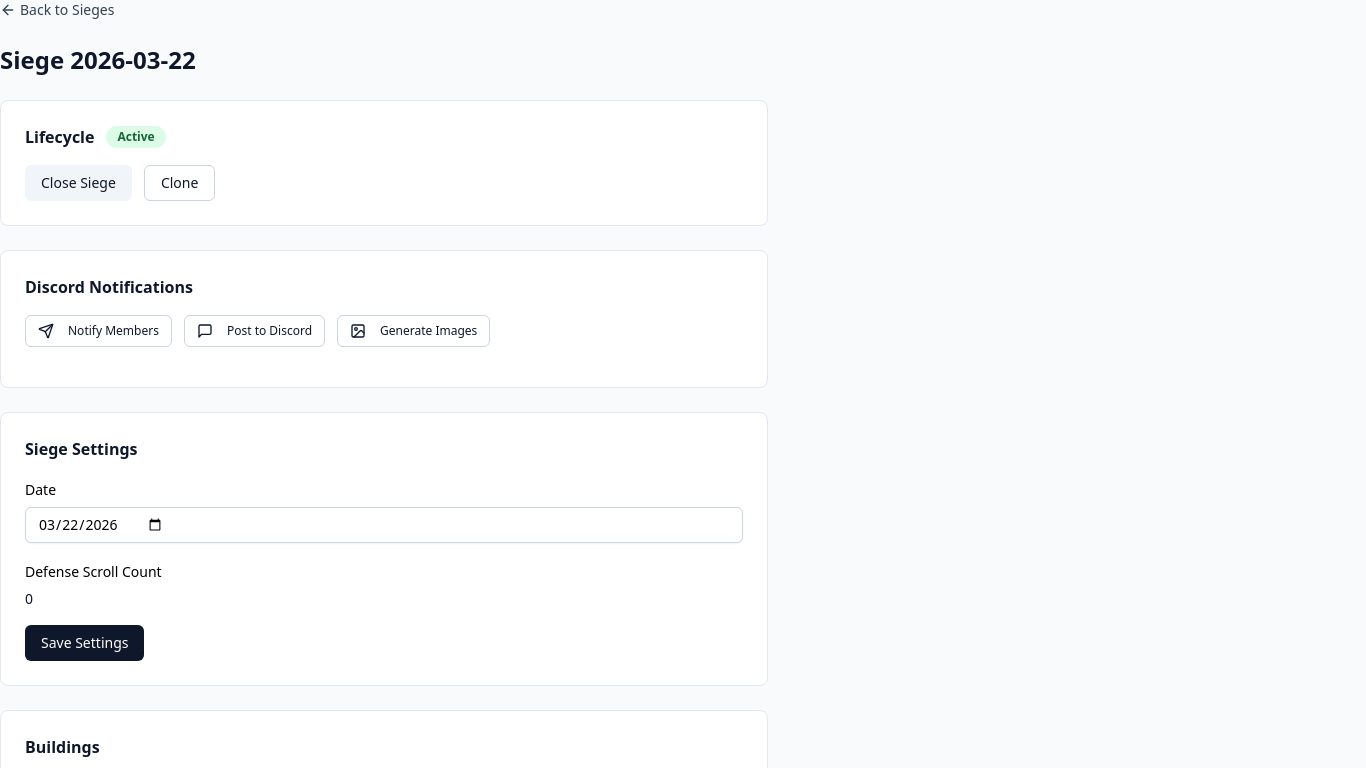
Test: SiegeSettingsPage — Notify Members button › disables Notify Members button and shows spinner while batch is in-progress
Step 1. Click the button "Notify Members" → click(98, 331), box [25,315,172,347]
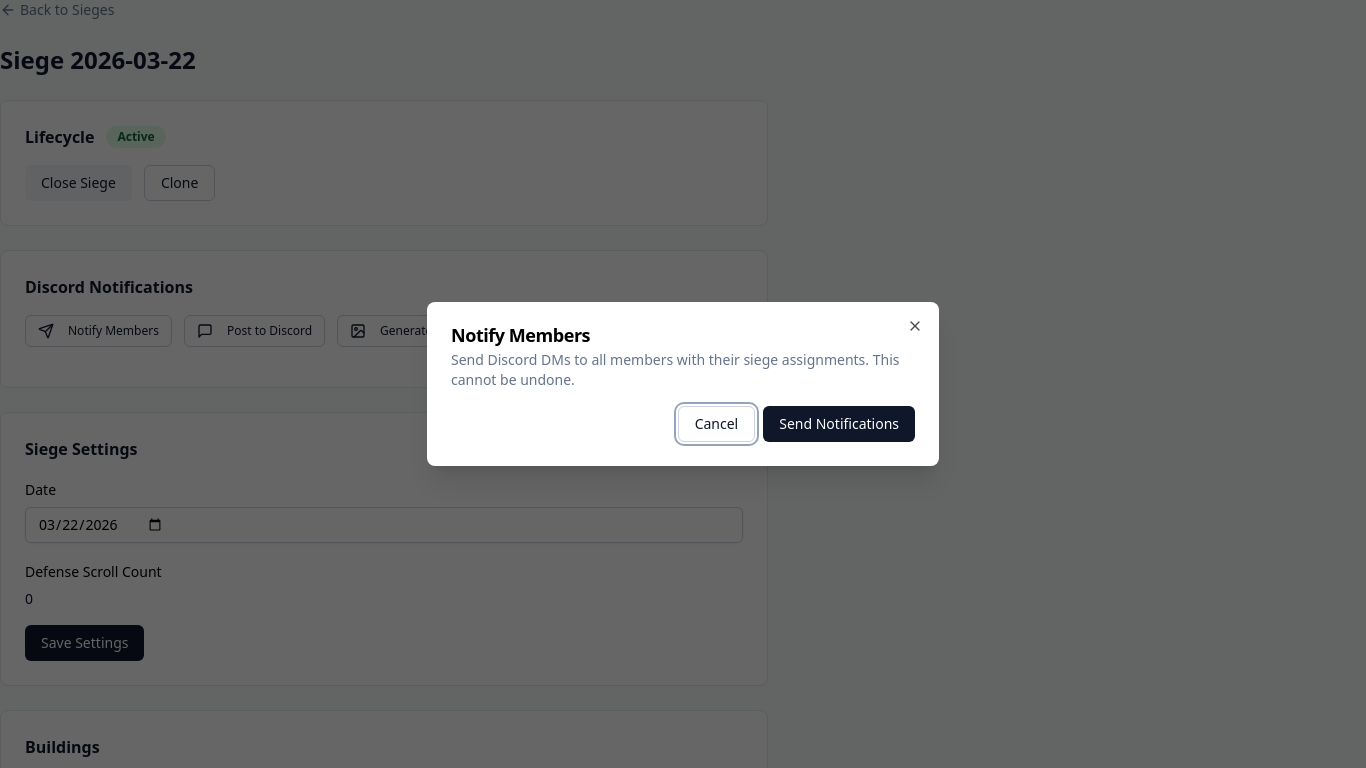
Step 2. Click the button "Send Notifications" → click(839, 424), box [763,406,915,442]
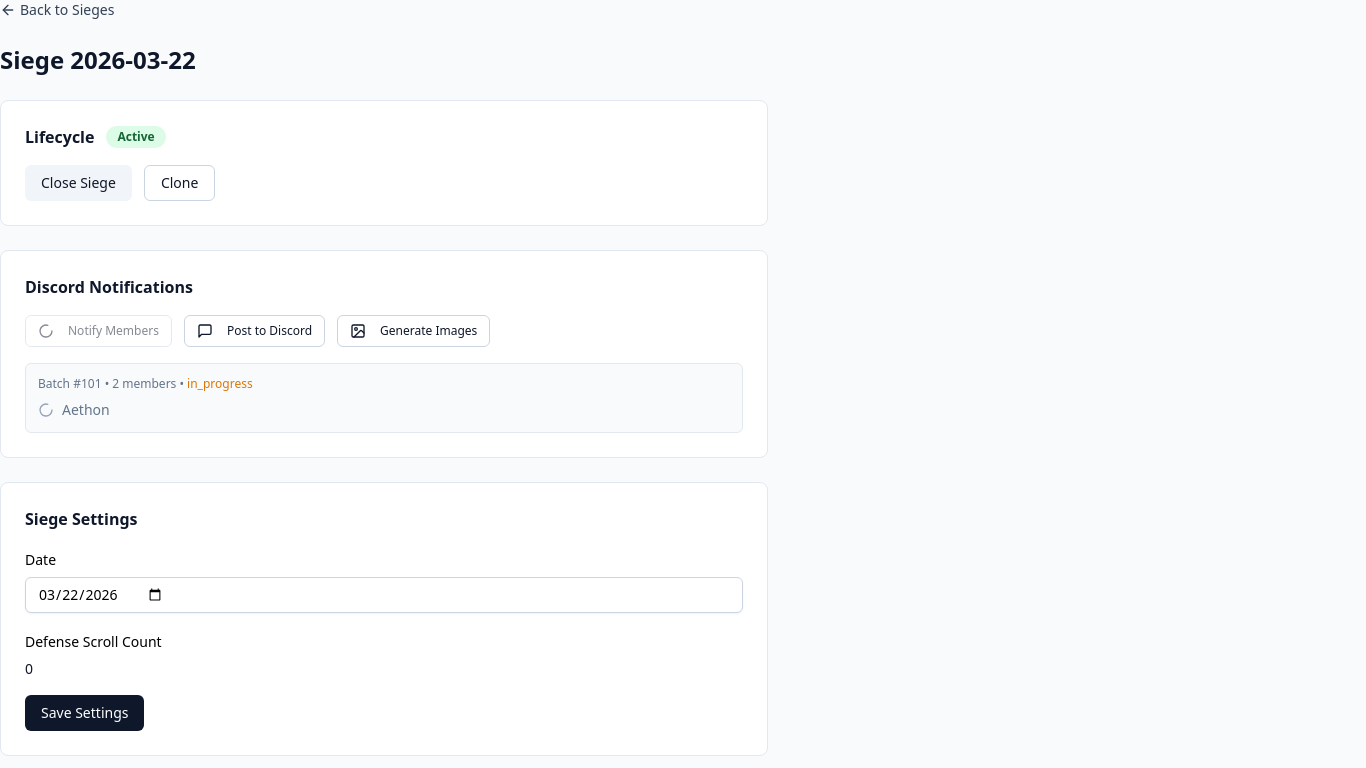
expect the text "Batch #101 • 2 members • in_progress" is shown: met, box [38,375,253,392]
expect the button "Notify Members" is disabled: met, box [25,315,172,347]
expect the 1st icon with class "animate-spin" is shown: met, box [38,323,54,339]
